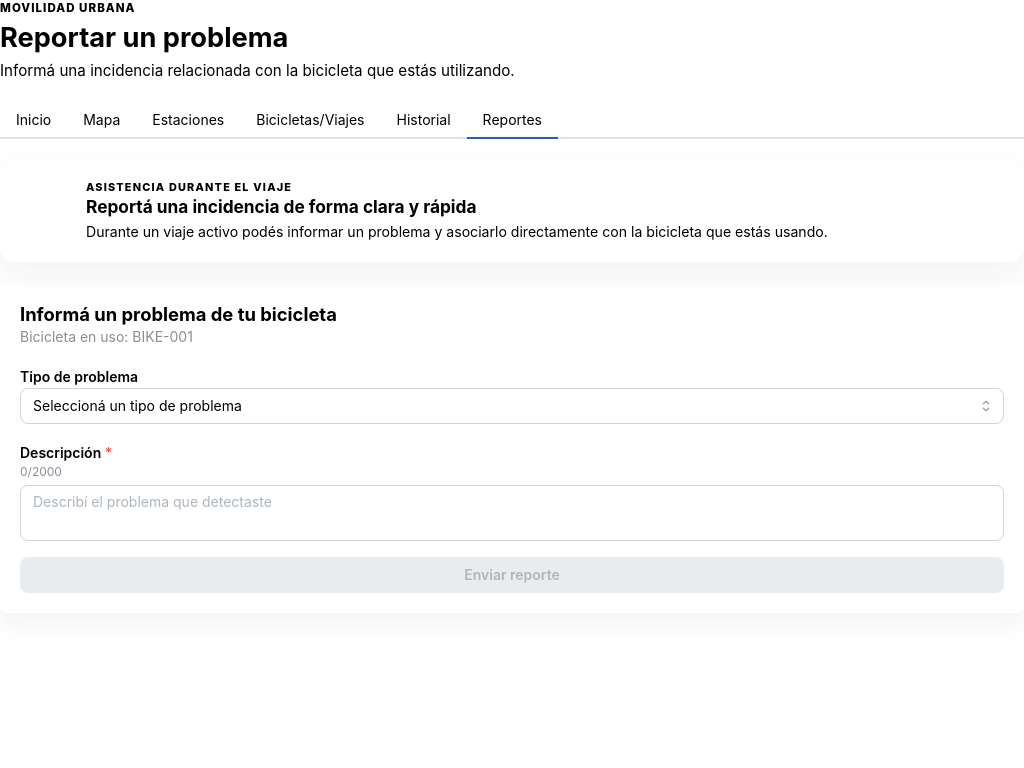
it: ReportsPage › envía el reporte con el payload real y confirma la respuesta
Select "Pinchazo" in the dropdown labelled "Tipo de problema": coordinates (512, 406) [20,388,1004,424]
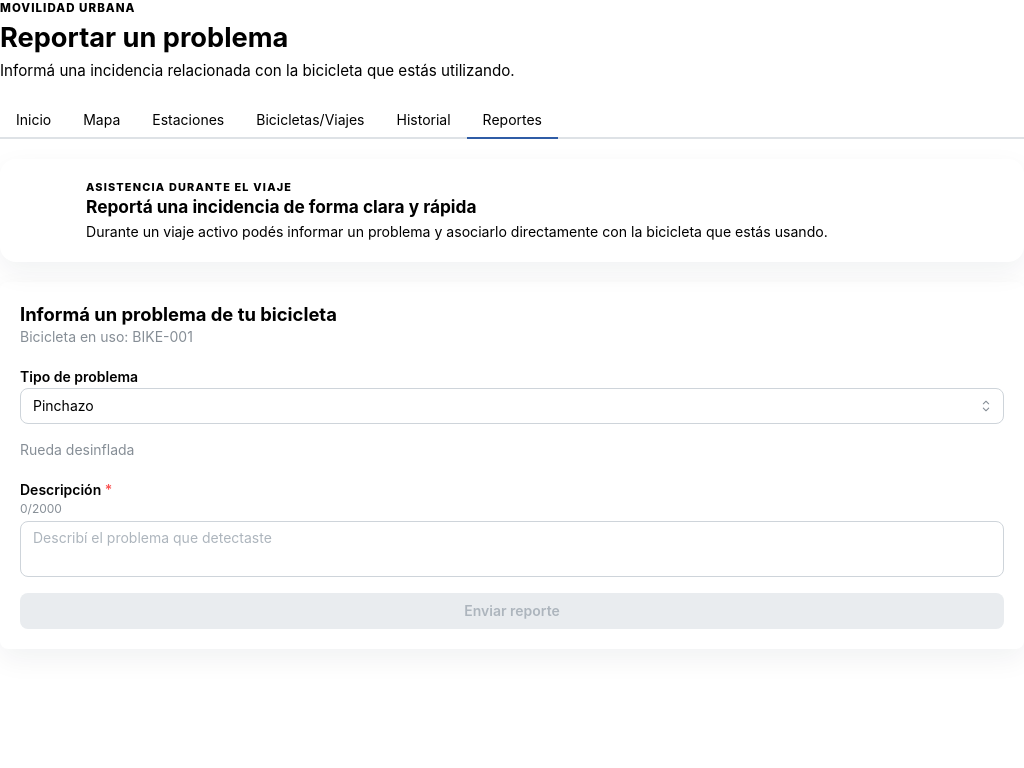
In the text box labelled "Descripción": coordinates (512, 549) [20,521,1004,577], type "  Rueda trasera desinflada  "
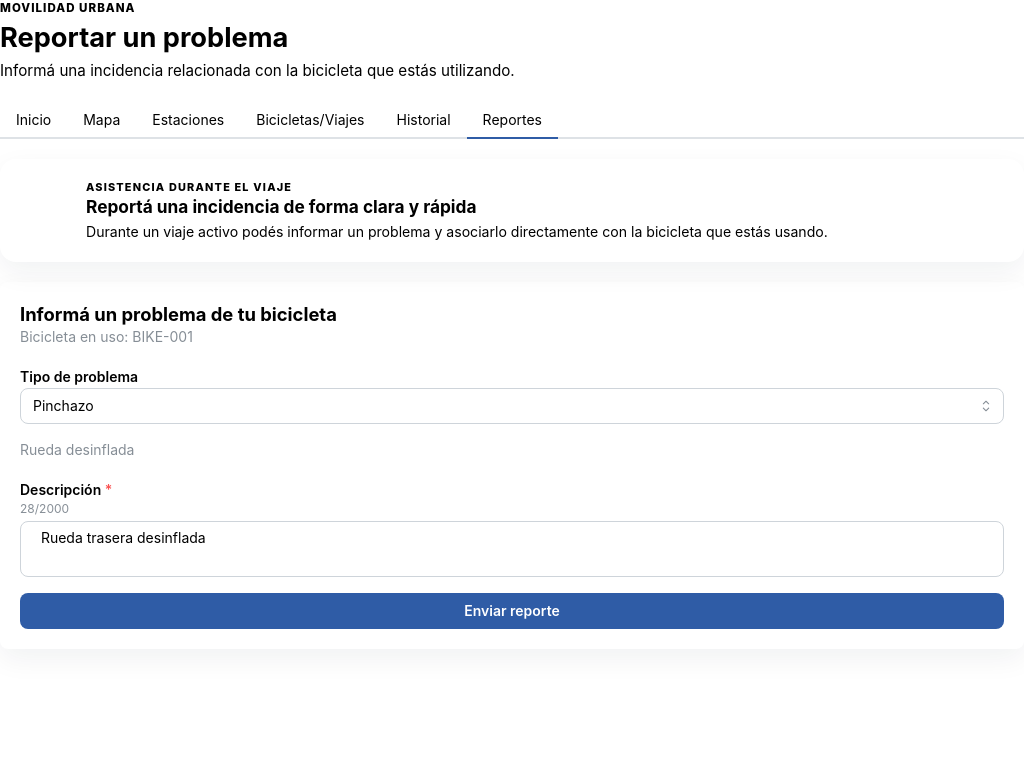
Click the button "Enviar reporte": coordinates (512, 611) [20,593,1004,629]
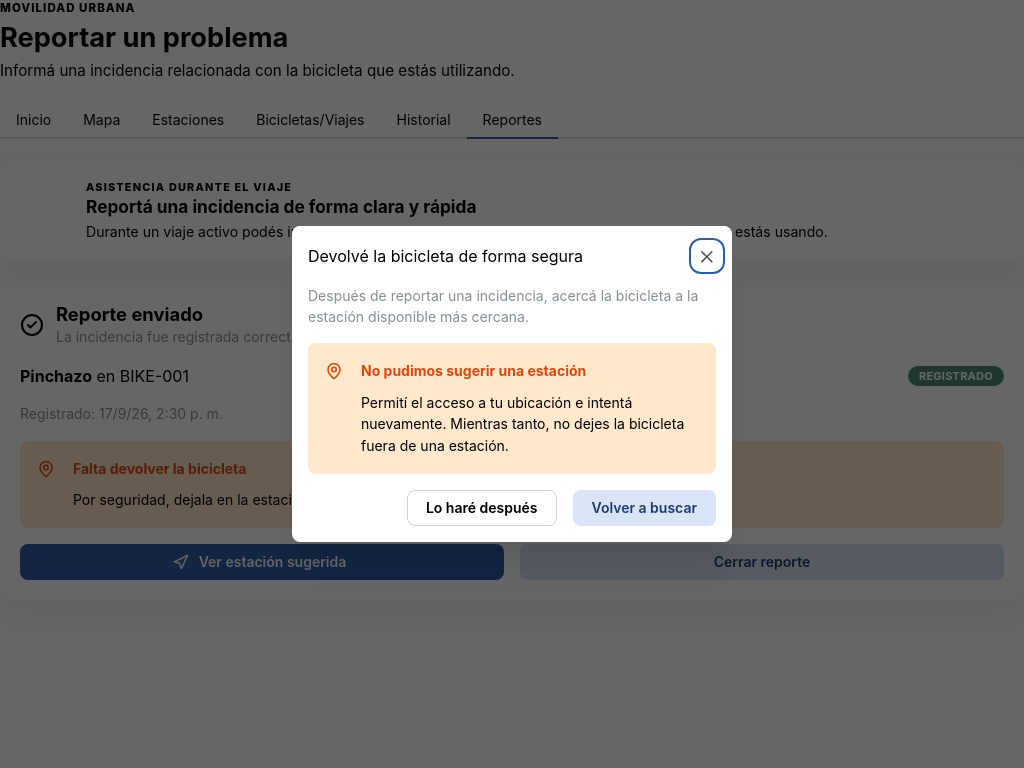
Expected: the heading "Reporte enviado" is shown, [56,304,203,326]
Expected: the text "Pinchazo" is shown, [20,366,92,386]
